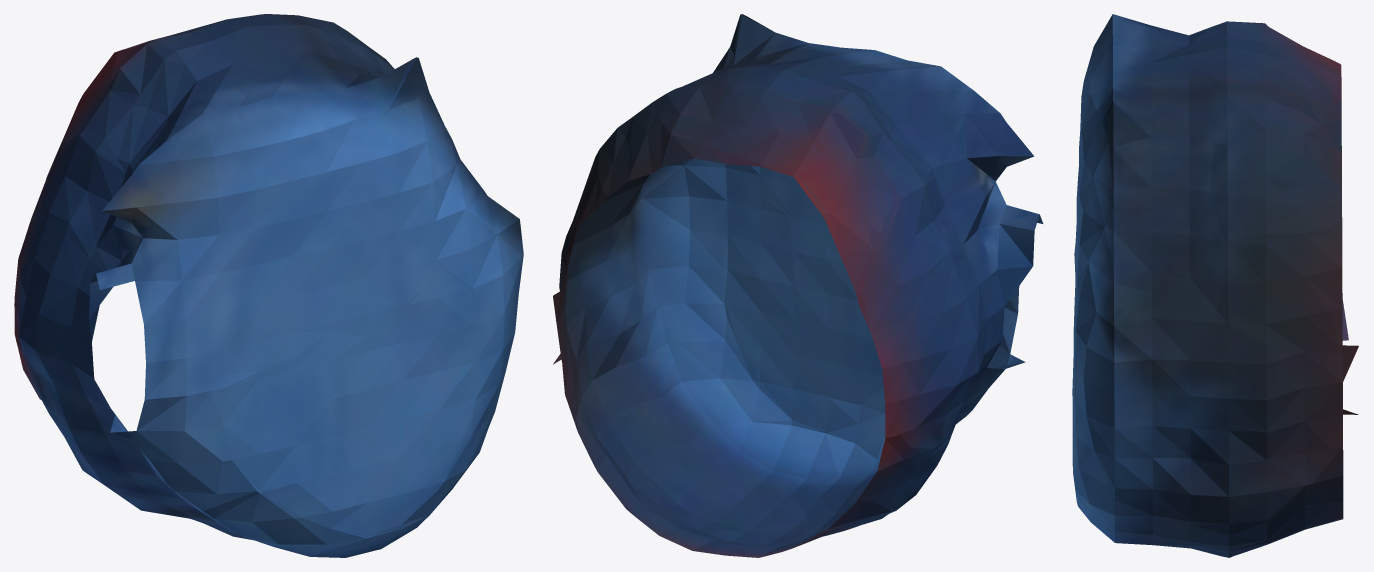
The model's file is bottle68_lid.dae.
3 renders of one model, left to right at view 1: azimuth 30°, elevation 25°; view 2: azimuth 150°, elevation 25°; view 3: azimuth 270°, elevation 25°, orthographic. The views are drawn at different scales.
Parts seen in each view (by area): view 1: node; view 2: node; view 3: node.
Boxes of the visible parts, left/top/right/bottom form: node: left=14, top=14, right=523, bottom=557; node: left=553, top=14, right=1043, bottom=557; node: left=1072, top=14, right=1358, bottom=557.
Size of the model in its own units: 0.0366 by 0.0407 by 0.0226.
Materials: 1 (1 with a texture image).
